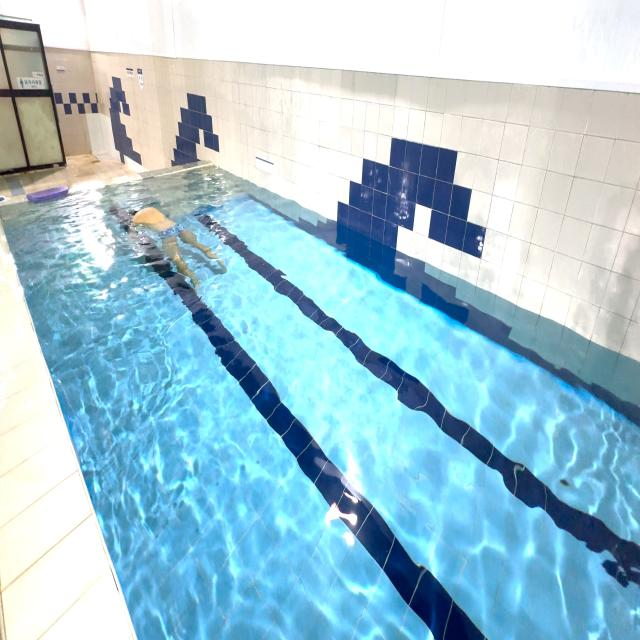Swimming: (119, 194, 226, 309)
